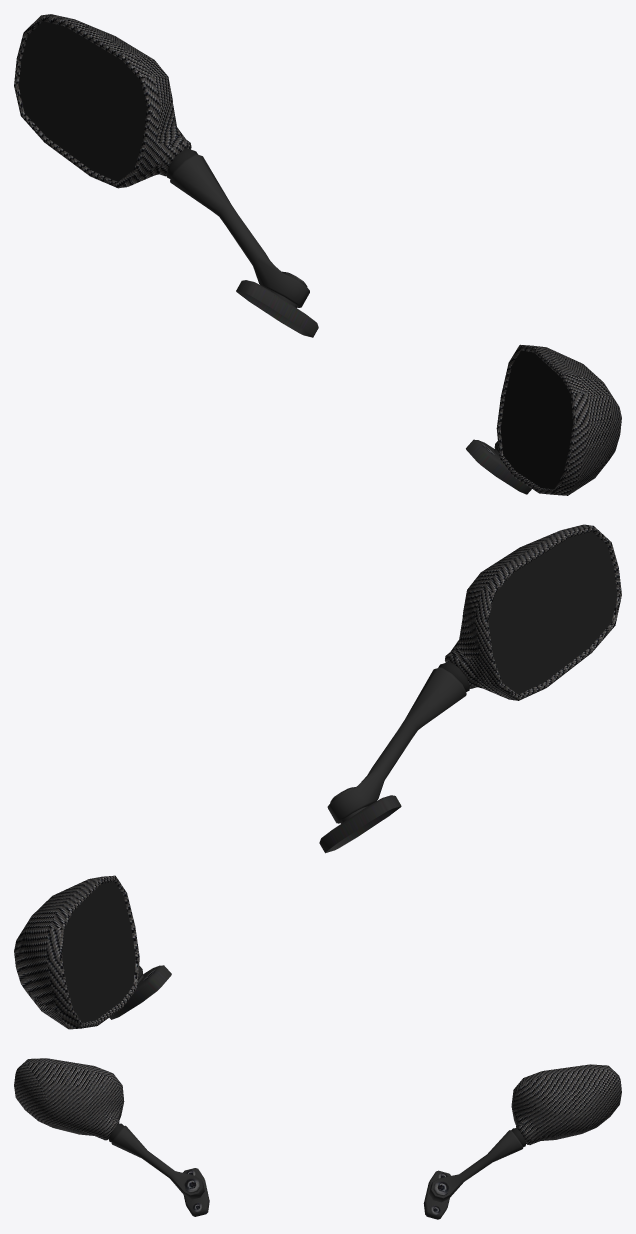
File: carbonfiber_mirrors.obj
3 renders of one model, top to bottom at view 1: azimuth 30°, elevation 25°; view 2: azimuth 150°, elevation 25°; view 3: azimuth 270°, elevation 25°, orthographic. The views are drawn at different scales.
Visible parts, largest first — view 1: polySurface1601; view 2: polySurface1601; view 3: polySurface1601.
Part boxes in pixels (x1,y1,x2,y2): polySurface1601: (14,14,621,495); polySurface1601: (14,524,621,1029); polySurface1601: (14,1058,621,1219).
Size of the model in its own units: 4.17 by 7.38 by 30.09.
2 materials, 2 textured.
